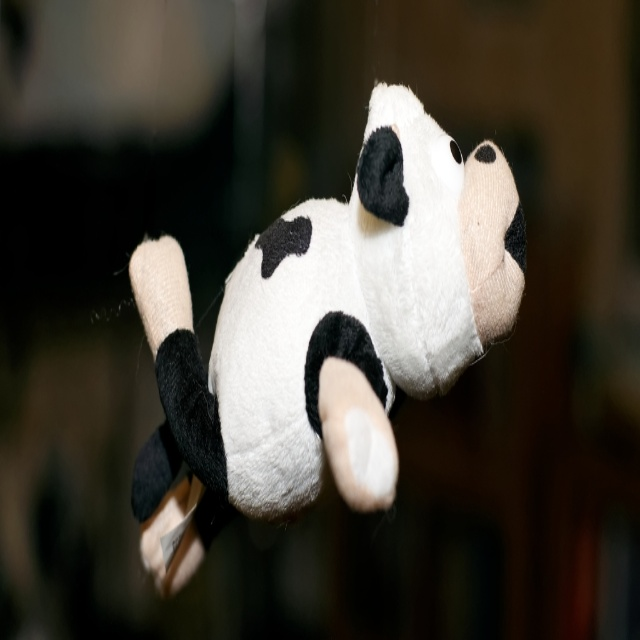Panda: (120, 77, 533, 610)
